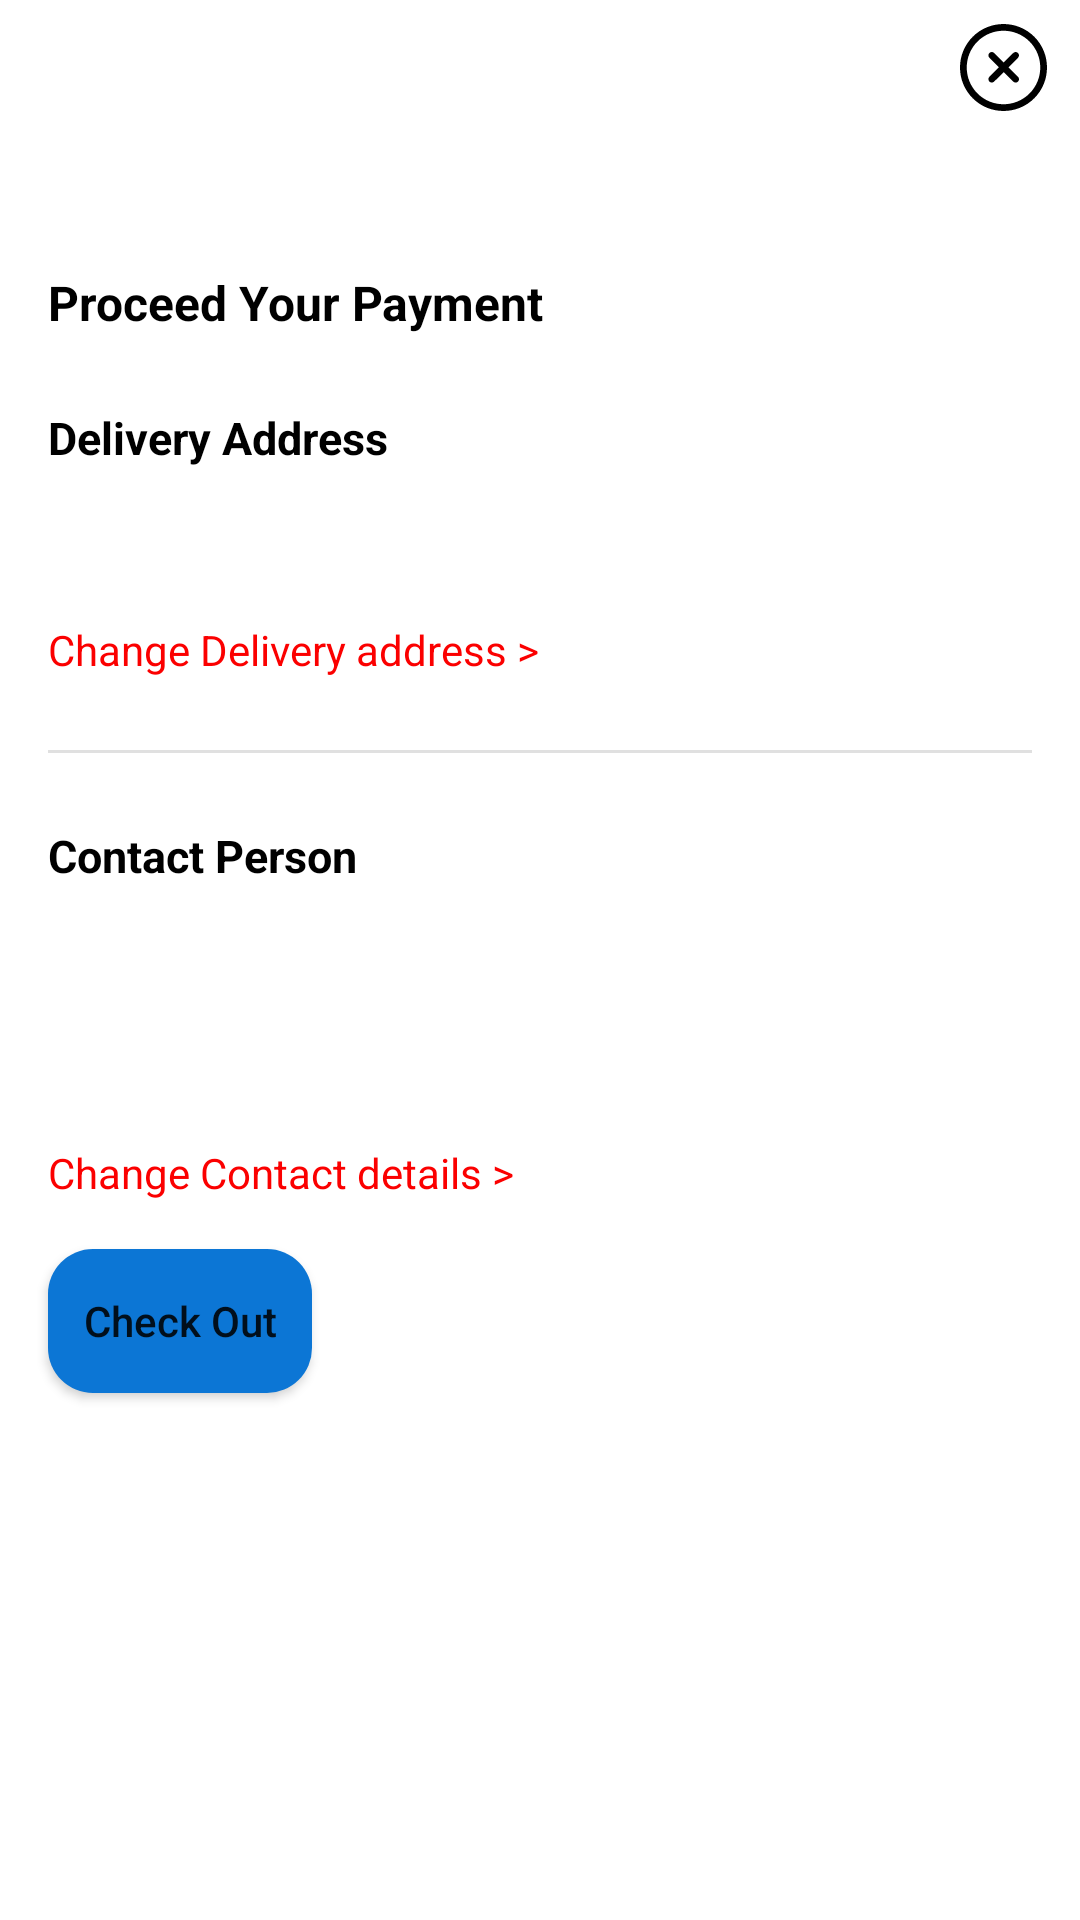

Locate icon controls on the screen. Image size 1080 x 1920, boxes as (x1, y1, x2, y2).
cancel: (960, 24, 1047, 111)
